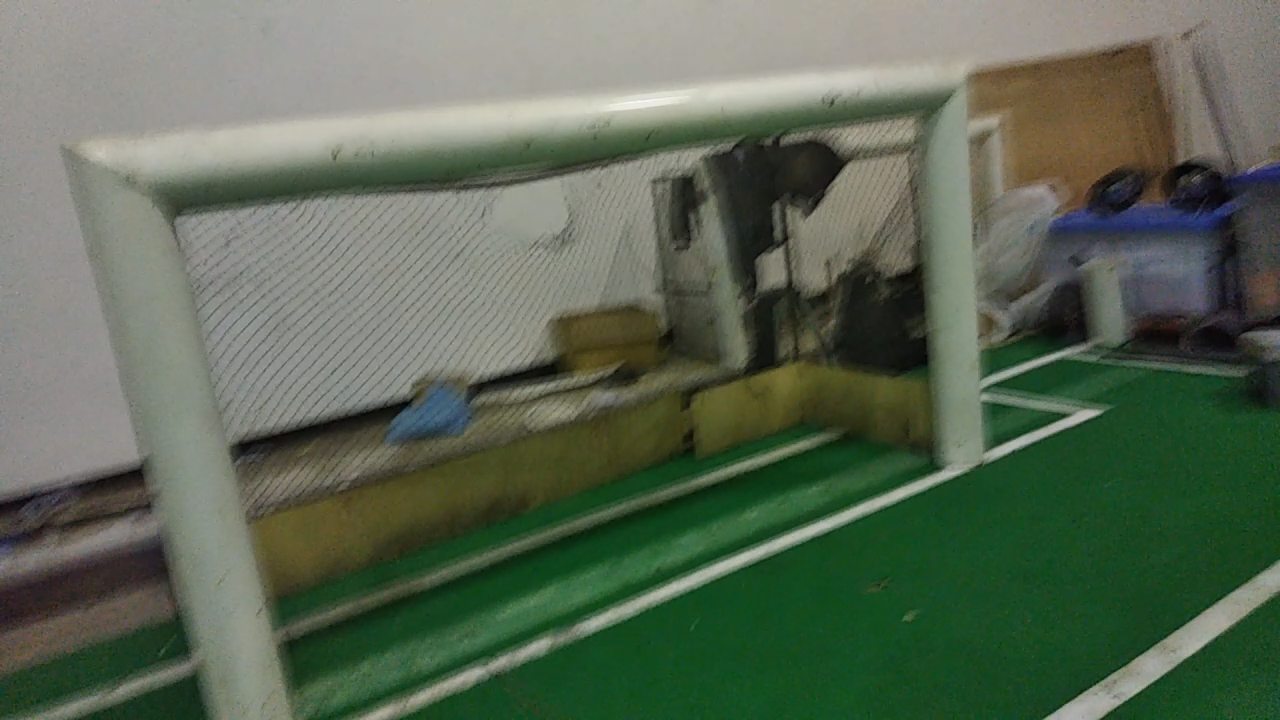gawang: (48, 52, 989, 719)
